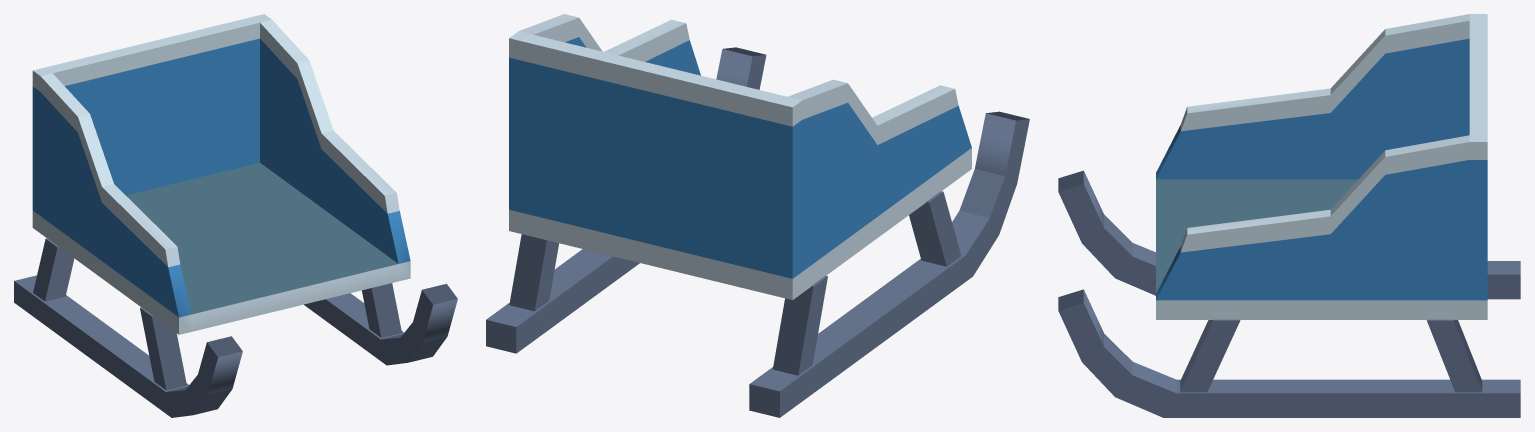
File: sled.glb
3 renders of one model, left to right at view 1: azimuth 30°, elevation 25°; view 2: azimuth 150°, elevation 25°; view 3: azimuth 270°, elevation 25°, orthographic. The views are drawn at different scales.
Parts seen in each view (by area): view 1: sled_rig; view 2: sled_rig; view 3: sled_rig.
Part boxes in pixels (box(x1,y1,x2,y2)): sled_rig: box(14, 14, 457, 417); sled_rig: box(486, 14, 1029, 417); sled_rig: box(1058, 14, 1520, 417).
Bounding box in the file's own units: 0.58 × 0.5587 × 0.8551.
